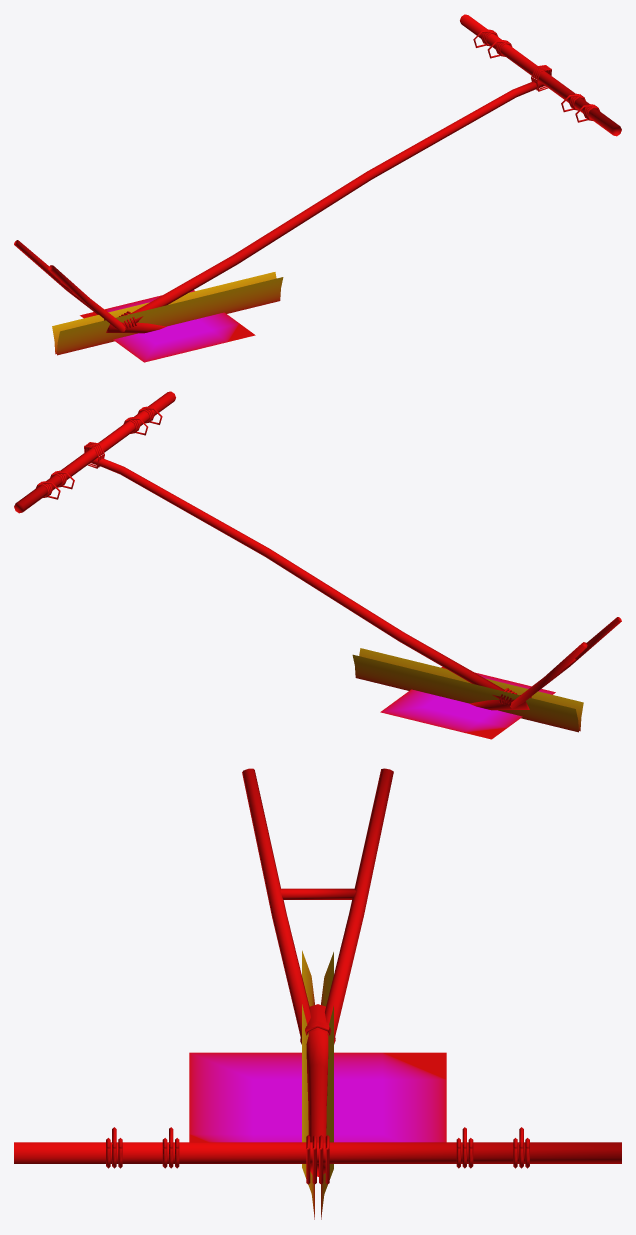
Rendered from jz_peret.glb.
The picture shows the model from 3 angles, top to bottom: view 1: azimuth 30°, elevation 25°; view 2: azimuth 150°, elevation 25°; view 3: azimuth 270°, elevation 25°; orthographic projection. The views are drawn at different scales.
Visible parts, largest first — view 1: Pflug, Saat, Furchen; view 2: Pflug, Saat, Furchen; view 3: Pflug, Furchen, Saat.
Boxes of the visible parts, x1,y1,x2,y2 form: Pflug: (14,14,621,333); Saat: (52,272,283,355); Furchen: (80,290,255,362); Pflug: (14,391,621,710); Saat: (352,648,583,732); Furchen: (380,667,555,739); Pflug: (14,768,621,1184); Furchen: (189,1052,446,1142); Saat: (302,950,333,1219).
Bounding box in the file's own units: 4.64 × 1.5 × 2.36.
